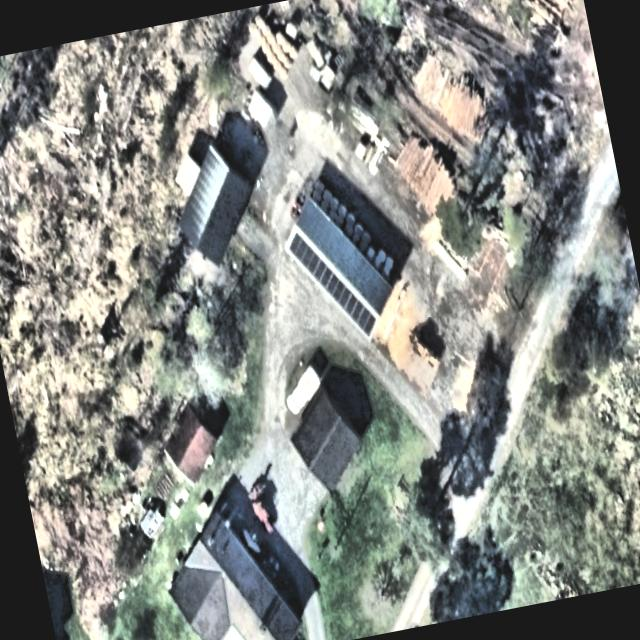roof_pv: (333, 274, 381, 344), (282, 226, 327, 280), (310, 250, 347, 302)
